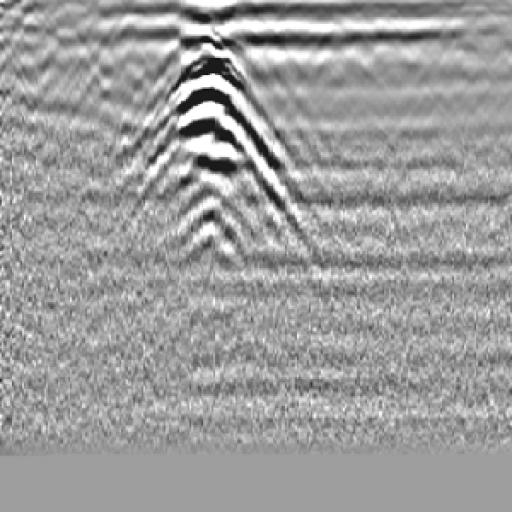metalic: (114, 35, 324, 255)
